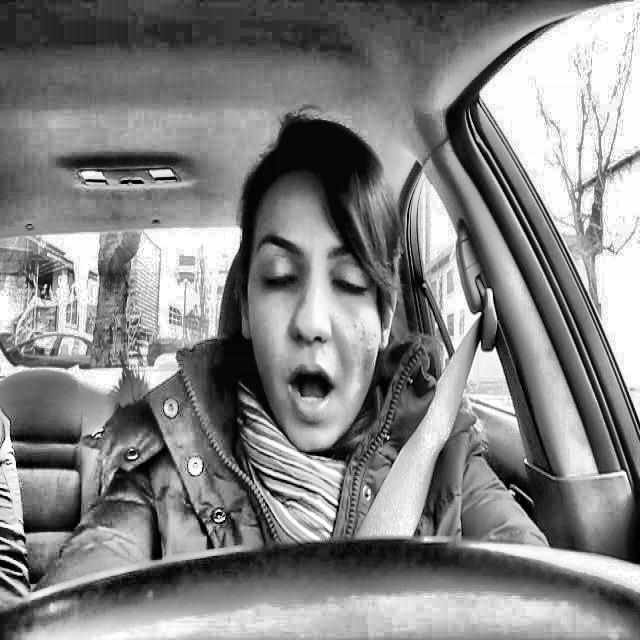closed_eyes: (323, 260, 382, 320), (253, 245, 311, 303)
open_mouth: (273, 352, 352, 435)
